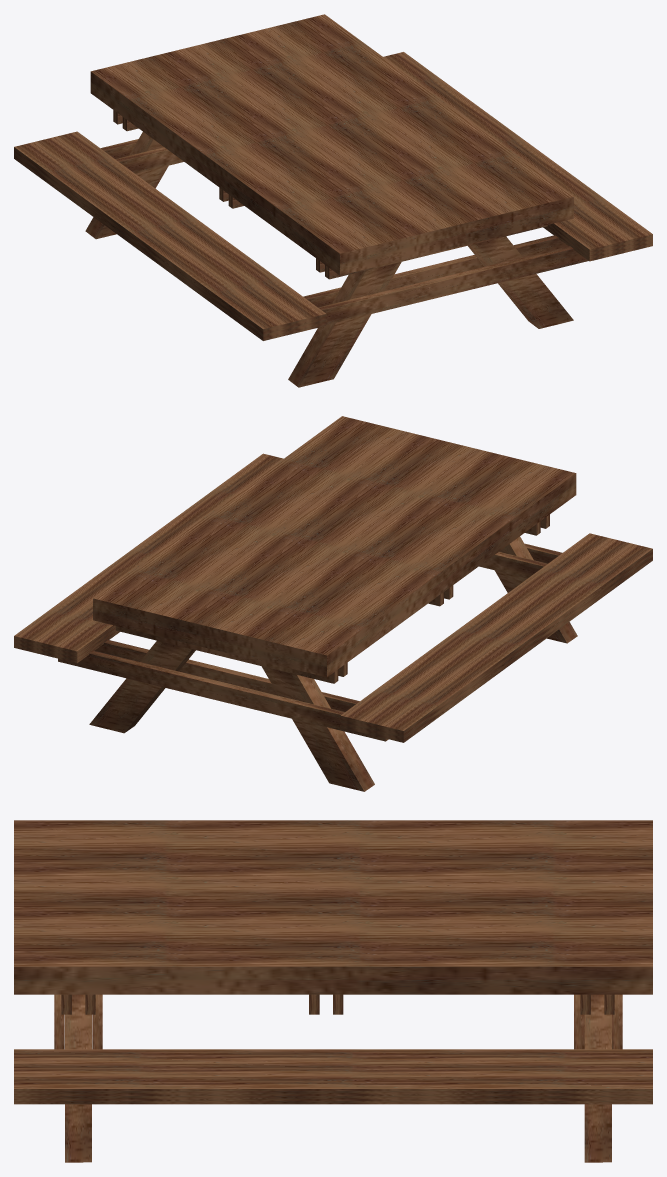
File: park_bench.fbx
The picture shows the model from 3 angles, top to bottom: view 1: azimuth 30°, elevation 25°; view 2: azimuth 150°, elevation 25°; view 3: azimuth 270°, elevation 25°; orthographic projection. The views are drawn at different scales.
Visible parts, largest first — view 1: pCube683, pCube698, pCube699, pCube696, pCube693, pCube692, pCube697, pCube691, pCube695; view 2: pCube683, pCube698, pCube699, pCube694, pCube691, pCube690, pCube695, pCube684, pCube693, pCube697; view 3: pCube683, pCube699, pCube690, pCube692, pCube694, pCube696, pCube697, pCube695.
Part boxes in pixels (x1,y1,x2,y2): pCube683: (90, 14, 573, 275); pCube698: (14, 131, 326, 340); pCube699: (383, 52, 652, 261); pCube696: (318, 246, 588, 324); pCube693: (288, 262, 401, 387); pCube692: (468, 236, 573, 328); pCube697: (303, 235, 568, 307); pCube691: (85, 132, 168, 239); pCube695: (115, 147, 183, 173); pCube683: (93, 416, 576, 677); pCube698: (340, 533, 652, 742); pCube699: (14, 453, 283, 663); pCube694: (58, 650, 388, 741); pCube691: (262, 666, 374, 791); pCube690: (89, 640, 195, 733); pCube695: (94, 640, 359, 711); pCube684: (115, 626, 338, 683); pCube693: (495, 536, 577, 643); pCube697: (479, 552, 547, 578); pCube683: (14, 820, 652, 994); pCube699: (14, 1049, 652, 1104); pCube690: (584, 994, 611, 1162); pCube692: (65, 994, 91, 1162); pCube694: (612, 994, 622, 1049); pCube696: (54, 994, 64, 1049); pCube697: (92, 994, 102, 1049); pCube695: (574, 994, 584, 1049).
Size of the model in its own units: 2.83 by 0.993 by 3.13.
